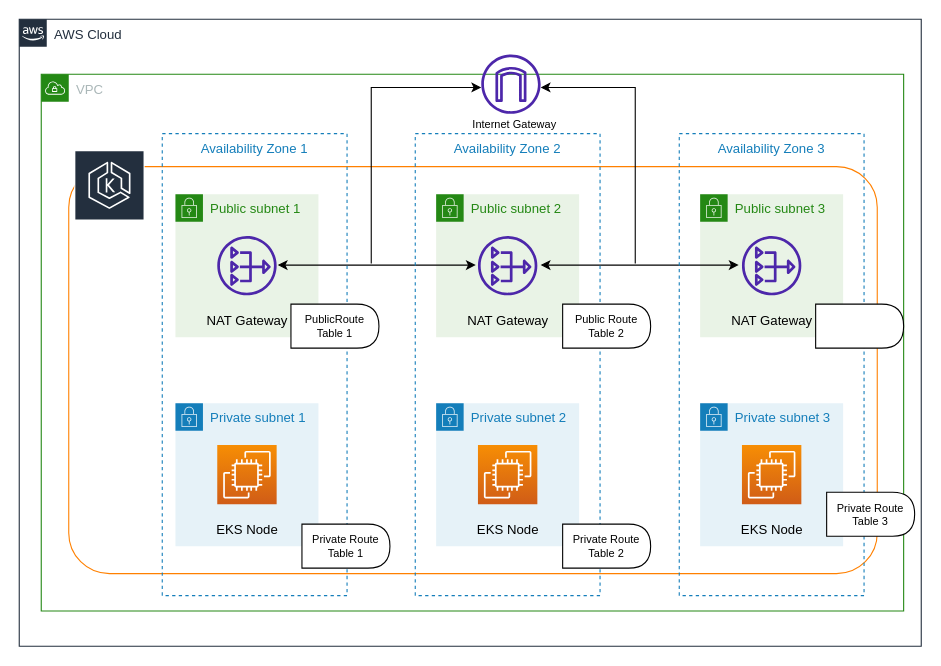
The diagram is 941 pixels wide and 666 high, and some of its shapes have lost their labels. Each missing label, with the centre of its shape:
"Amazon EKS" goes at point (109, 193).
"Public Route Table 3" goes at point (859, 325).
